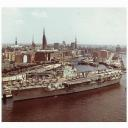Portanaves: (3, 53, 127, 106)
